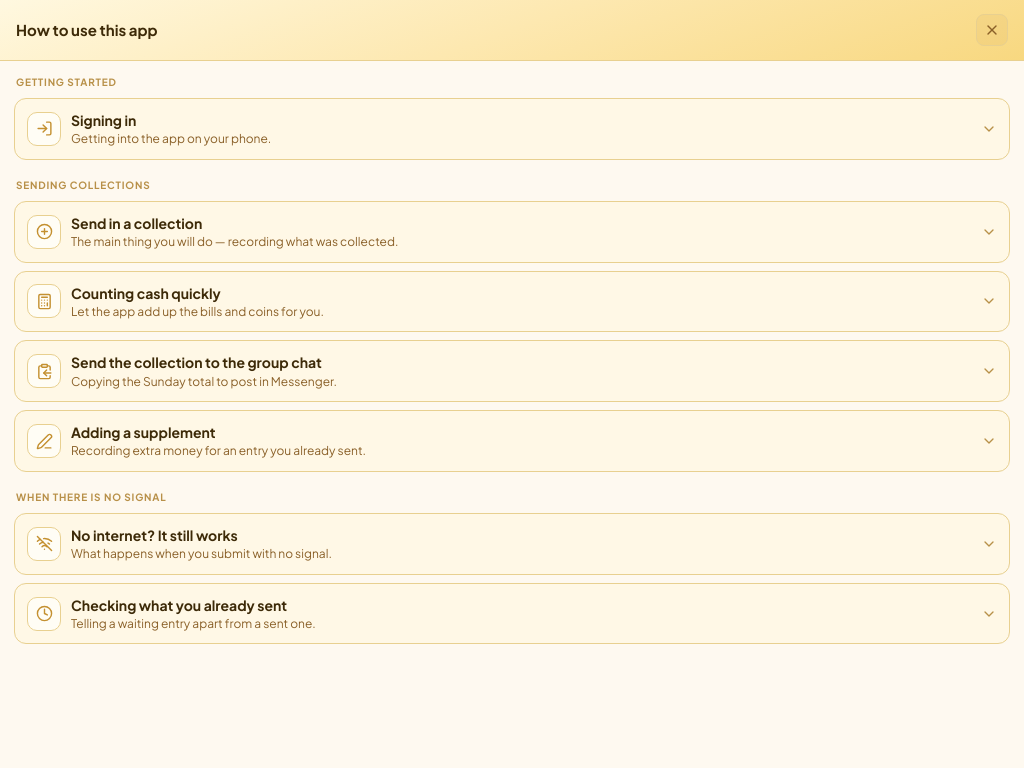
shows the Taglish hint on the offline topic
Click the button "No internet" at (44, 544), box x1=15 y1=514 x2=1009 y2=574
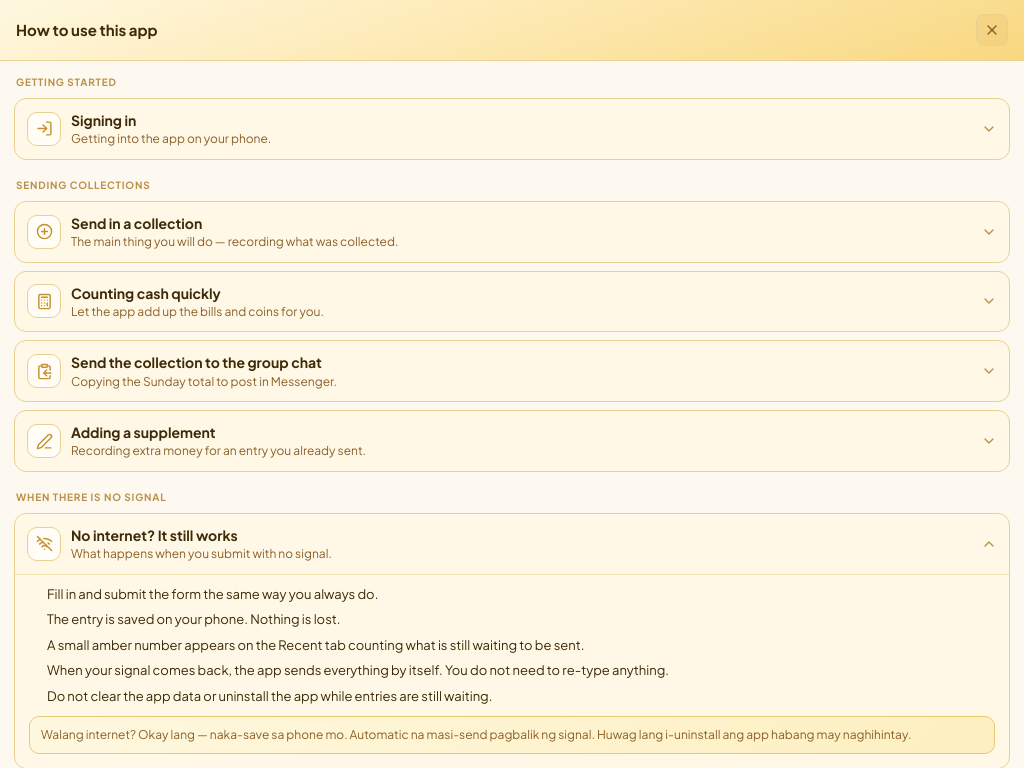
Expected: the text "naka-save sa phone mo" is shown, x1=41 y1=727 x2=911 y2=742
